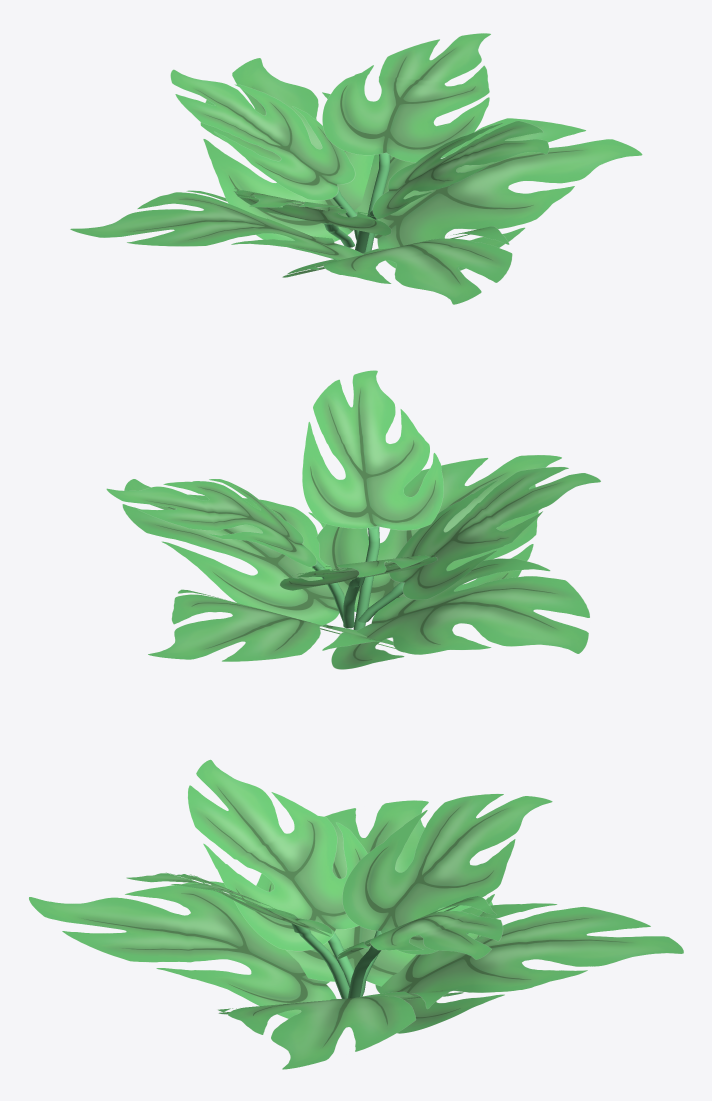
The model's file is Plant.glb.
3 views of the same model, one above another, from view 1: azimuth 30°, elevation 25°; view 2: azimuth 150°, elevation 25°; view 3: azimuth 270°, elevation 25° (orthographic). The views are drawn at different scales.
Visible parts, largest first — view 1: Plant; view 2: Plant; view 3: Plant.
Part boxes in pixels (bbox=[...]): Plant: bbox=[70, 33, 642, 304]; Plant: bbox=[106, 370, 600, 669]; Plant: bbox=[28, 759, 683, 1069].
Size of the model in its own units: 4.27 by 1.4 by 4.26.
Materials: 2 (1 with a texture image).
